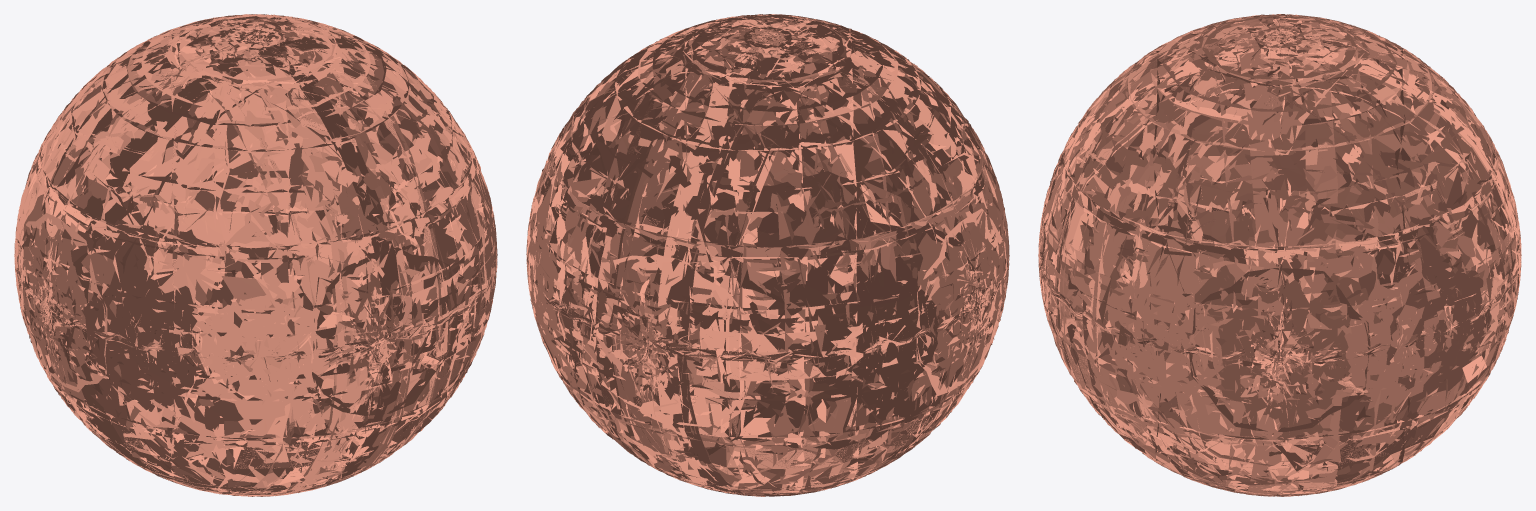
The model's file is sys-cd-telecom.glb.
3 renders of one model, left to right at view 1: azimuth 30°, elevation 25°; view 2: azimuth 150°, elevation 25°; view 3: azimuth 270°, elevation 25°, orthographic.
Visible parts, largest first — view 1: TS-cd-telecom-1707, TS-cd-telecom-1706, TS-cd-telecom-1708; view 2: TS-cd-telecom-1707, TS-cd-telecom-1706, TS-cd-telecom-1708; view 3: TS-cd-telecom-1707, TS-cd-telecom-1706, TS-cd-telecom-1708.
Boxes of the visible parts, x1,y1,x2,y2 form: TS-cd-telecom-1707: [14, 14, 497, 496]; TS-cd-telecom-1706: [14, 18, 497, 493]; TS-cd-telecom-1708: [14, 23, 497, 485]; TS-cd-telecom-1707: [526, 14, 1009, 496]; TS-cd-telecom-1706: [526, 19, 1009, 495]; TS-cd-telecom-1708: [526, 20, 1008, 493]; TS-cd-telecom-1707: [1038, 14, 1521, 496]; TS-cd-telecom-1706: [1038, 14, 1521, 496]; TS-cd-telecom-1708: [1038, 15, 1521, 495].
Bounding box in the file's own units: 2 × 2 × 2.
